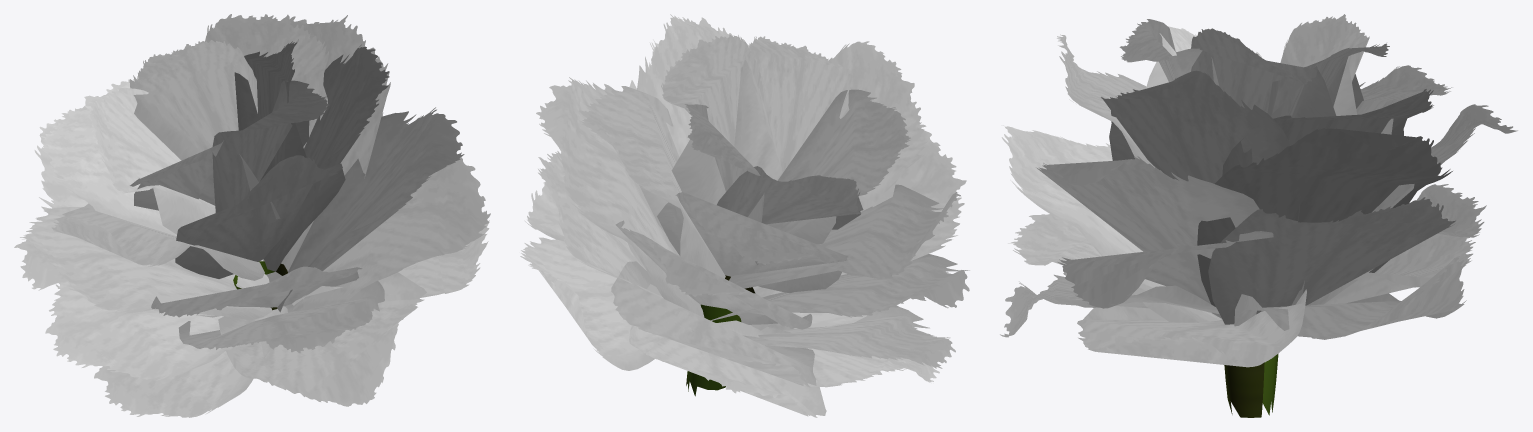
3 renders of one model, left to right at view 1: azimuth 30°, elevation 25°; view 2: azimuth 150°, elevation 25°; view 3: azimuth 270°, elevation 25°, orthographic. The views are drawn at different scales.
Visible parts, largest first — view 1: 0dca5c19; view 2: 0dca5c19; view 3: 0dca5c19.
Part boxes in pixels (<box>): 0dca5c19: <box>14,14,490,417</box>; 0dca5c19: <box>520,14,969,417</box>; 0dca5c19: <box>1000,14,1517,417</box>.
Size of the model in its own units: 0.0655 by 0.0491 by 0.0604.
2 materials, 2 textured.
